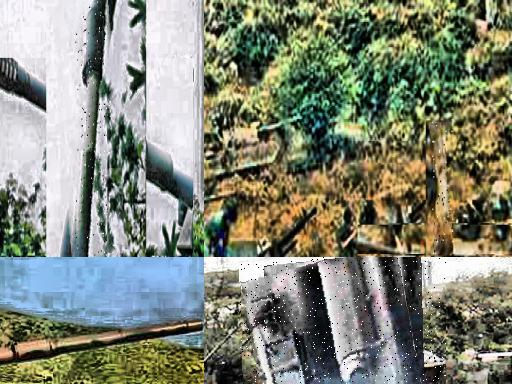tanks: (241, 258, 420, 384), (1, 322, 201, 364), (77, 1, 108, 258), (205, 117, 301, 187), (433, 124, 453, 255), (18, 256, 36, 258)
